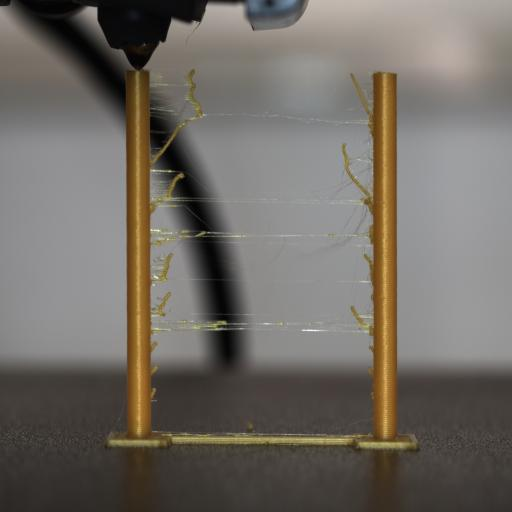stringing: (342, 141, 374, 205), (151, 170, 183, 214), (150, 248, 174, 302), (149, 70, 197, 94), (350, 72, 372, 120), (350, 305, 372, 331), (364, 252, 374, 286), (150, 234, 179, 245), (153, 253, 171, 263), (150, 340, 158, 353), (150, 364, 158, 376), (152, 328, 165, 334), (367, 366, 373, 378), (150, 388, 156, 399), (368, 345, 374, 353), (370, 391, 374, 400), (150, 329, 154, 336)
